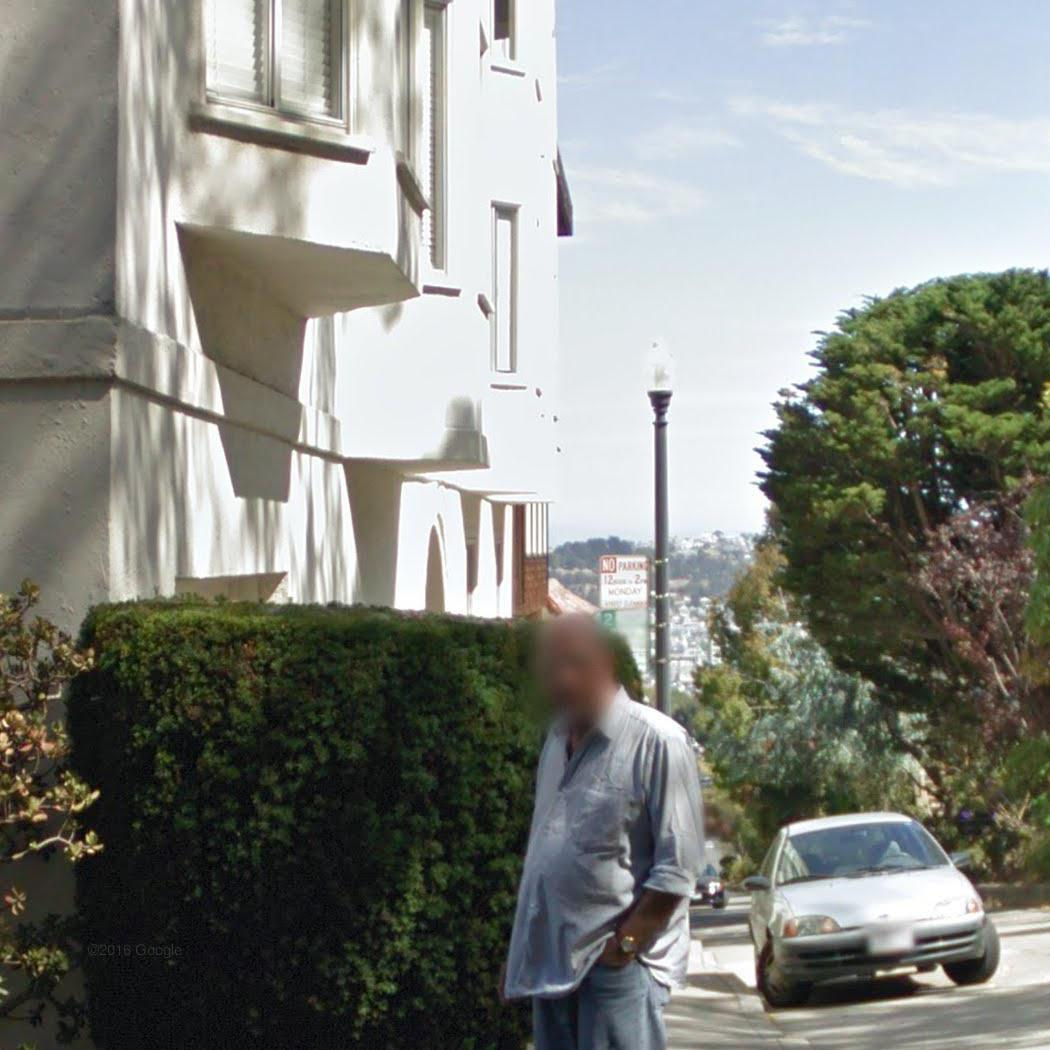2 Hour Parking: (594, 607, 654, 677)
No Parking: (594, 551, 653, 612)
